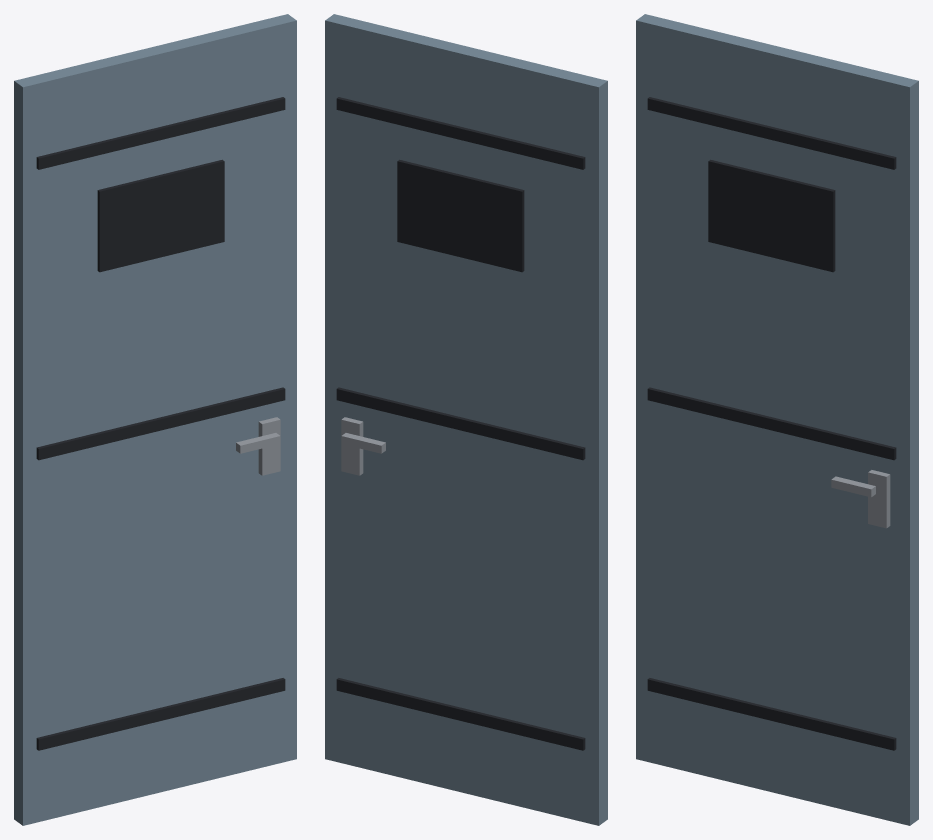
Rendered from SM_Door_metal_90x230.fbx.
3 renders of one model, left to right at view 1: azimuth 30°, elevation 25°; view 2: azimuth 150°, elevation 25°; view 3: azimuth 330°, elevation 25°, orthographic.
Parts seen in each view (by area): view 1: SM_Door_metal_90x230; view 2: SM_Door_metal_90x230; view 3: SM_Door_metal_90x230.
Part boxes in pixels (x1,y1,x2,y2): SM_Door_metal_90x230: [14, 14, 296, 825]; SM_Door_metal_90x230: [325, 14, 607, 825]; SM_Door_metal_90x230: [636, 14, 918, 825].
Bounding box in the file's own units: 0.888 × 2.29 × 0.175.
